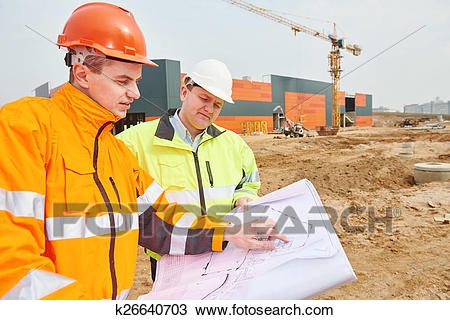red: (63, 3, 149, 119)
white: (182, 59, 235, 127)
